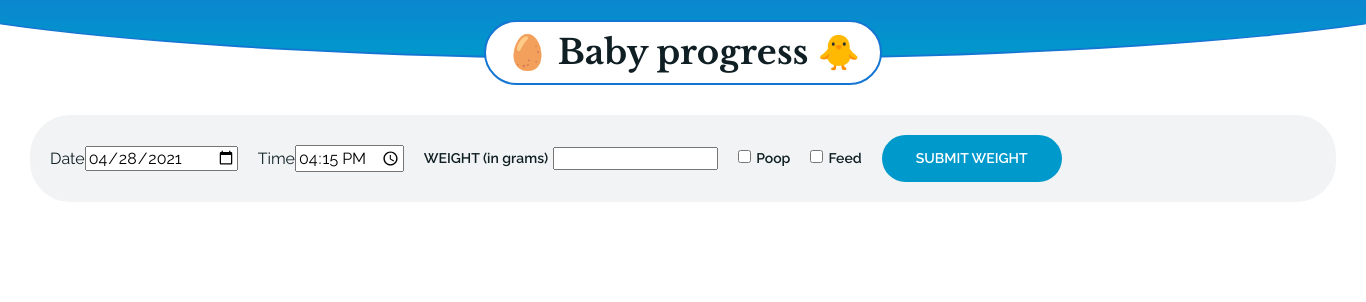
Scenario: Page › adds `poop` and `feed` booleans in each line
Click the text "WEIGHT (in grams)" at x=571, y=158, box [424,147,718,170]
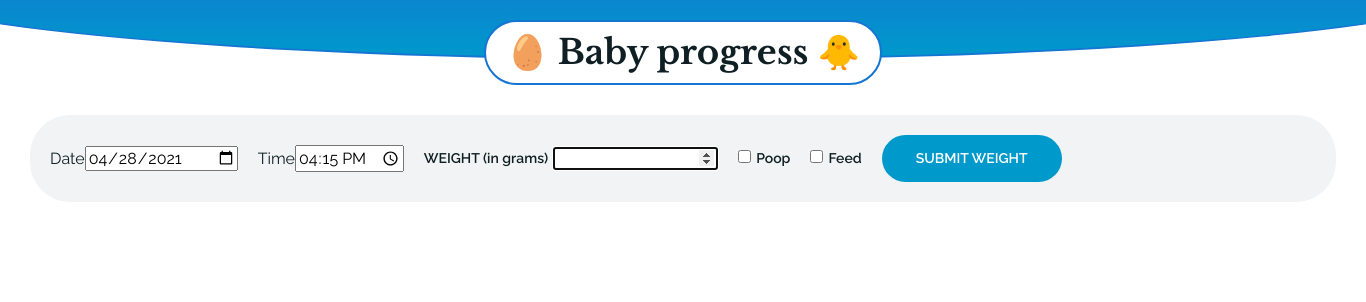
Type "3000" into the number field at x=636, y=158, box [553,147,718,170]
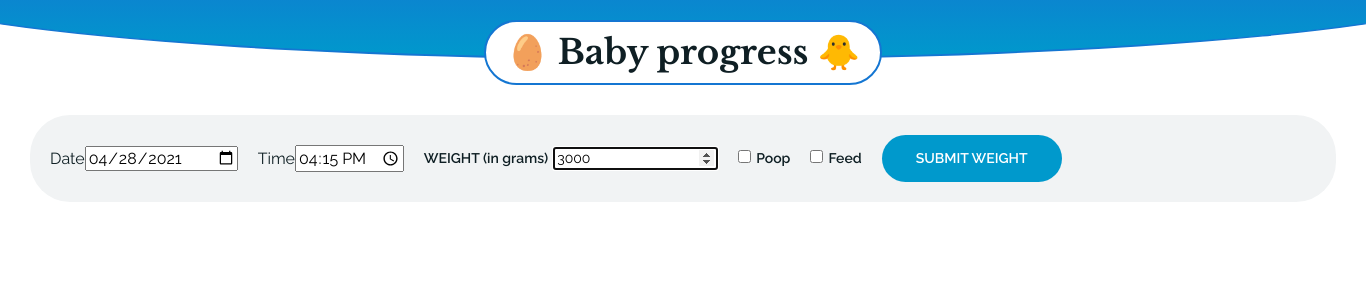
Click the text "Feed" at x=836, y=158, box [810,150,862,167]
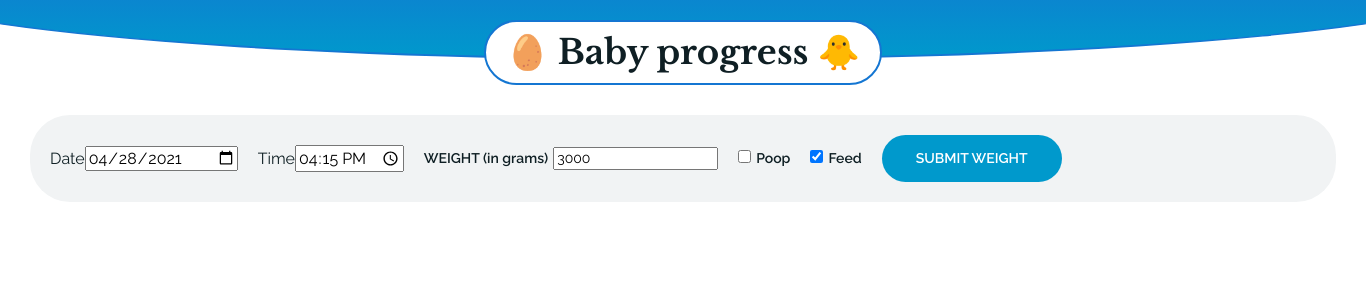
Click the text "Poop" at x=764, y=158, box [738,150,790,167]
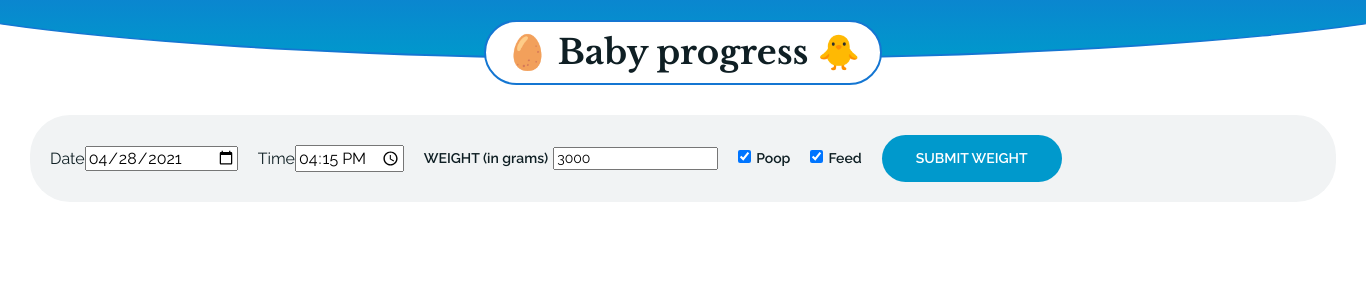
Click the button "Submit weight" at x=972, y=158, box [882,135,1062,182]
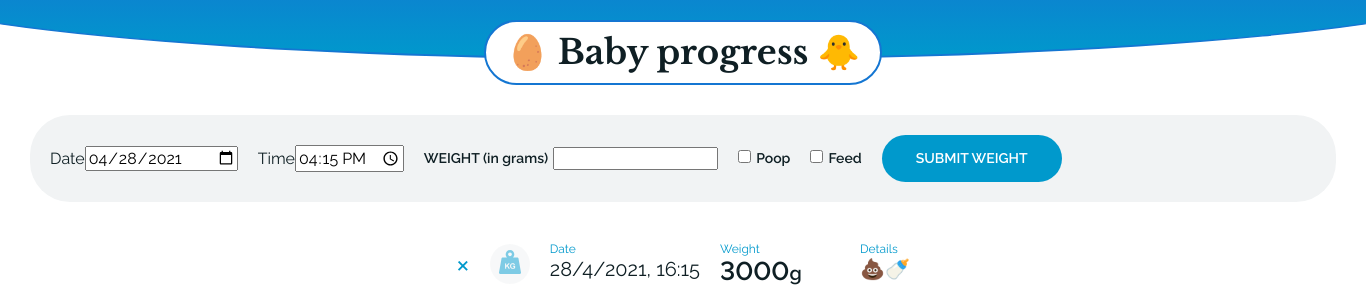
Check: the picture "💩" is shown, box [860,257,885,281]
Check: the picture "🍼" is shown, box [885,257,910,281]
